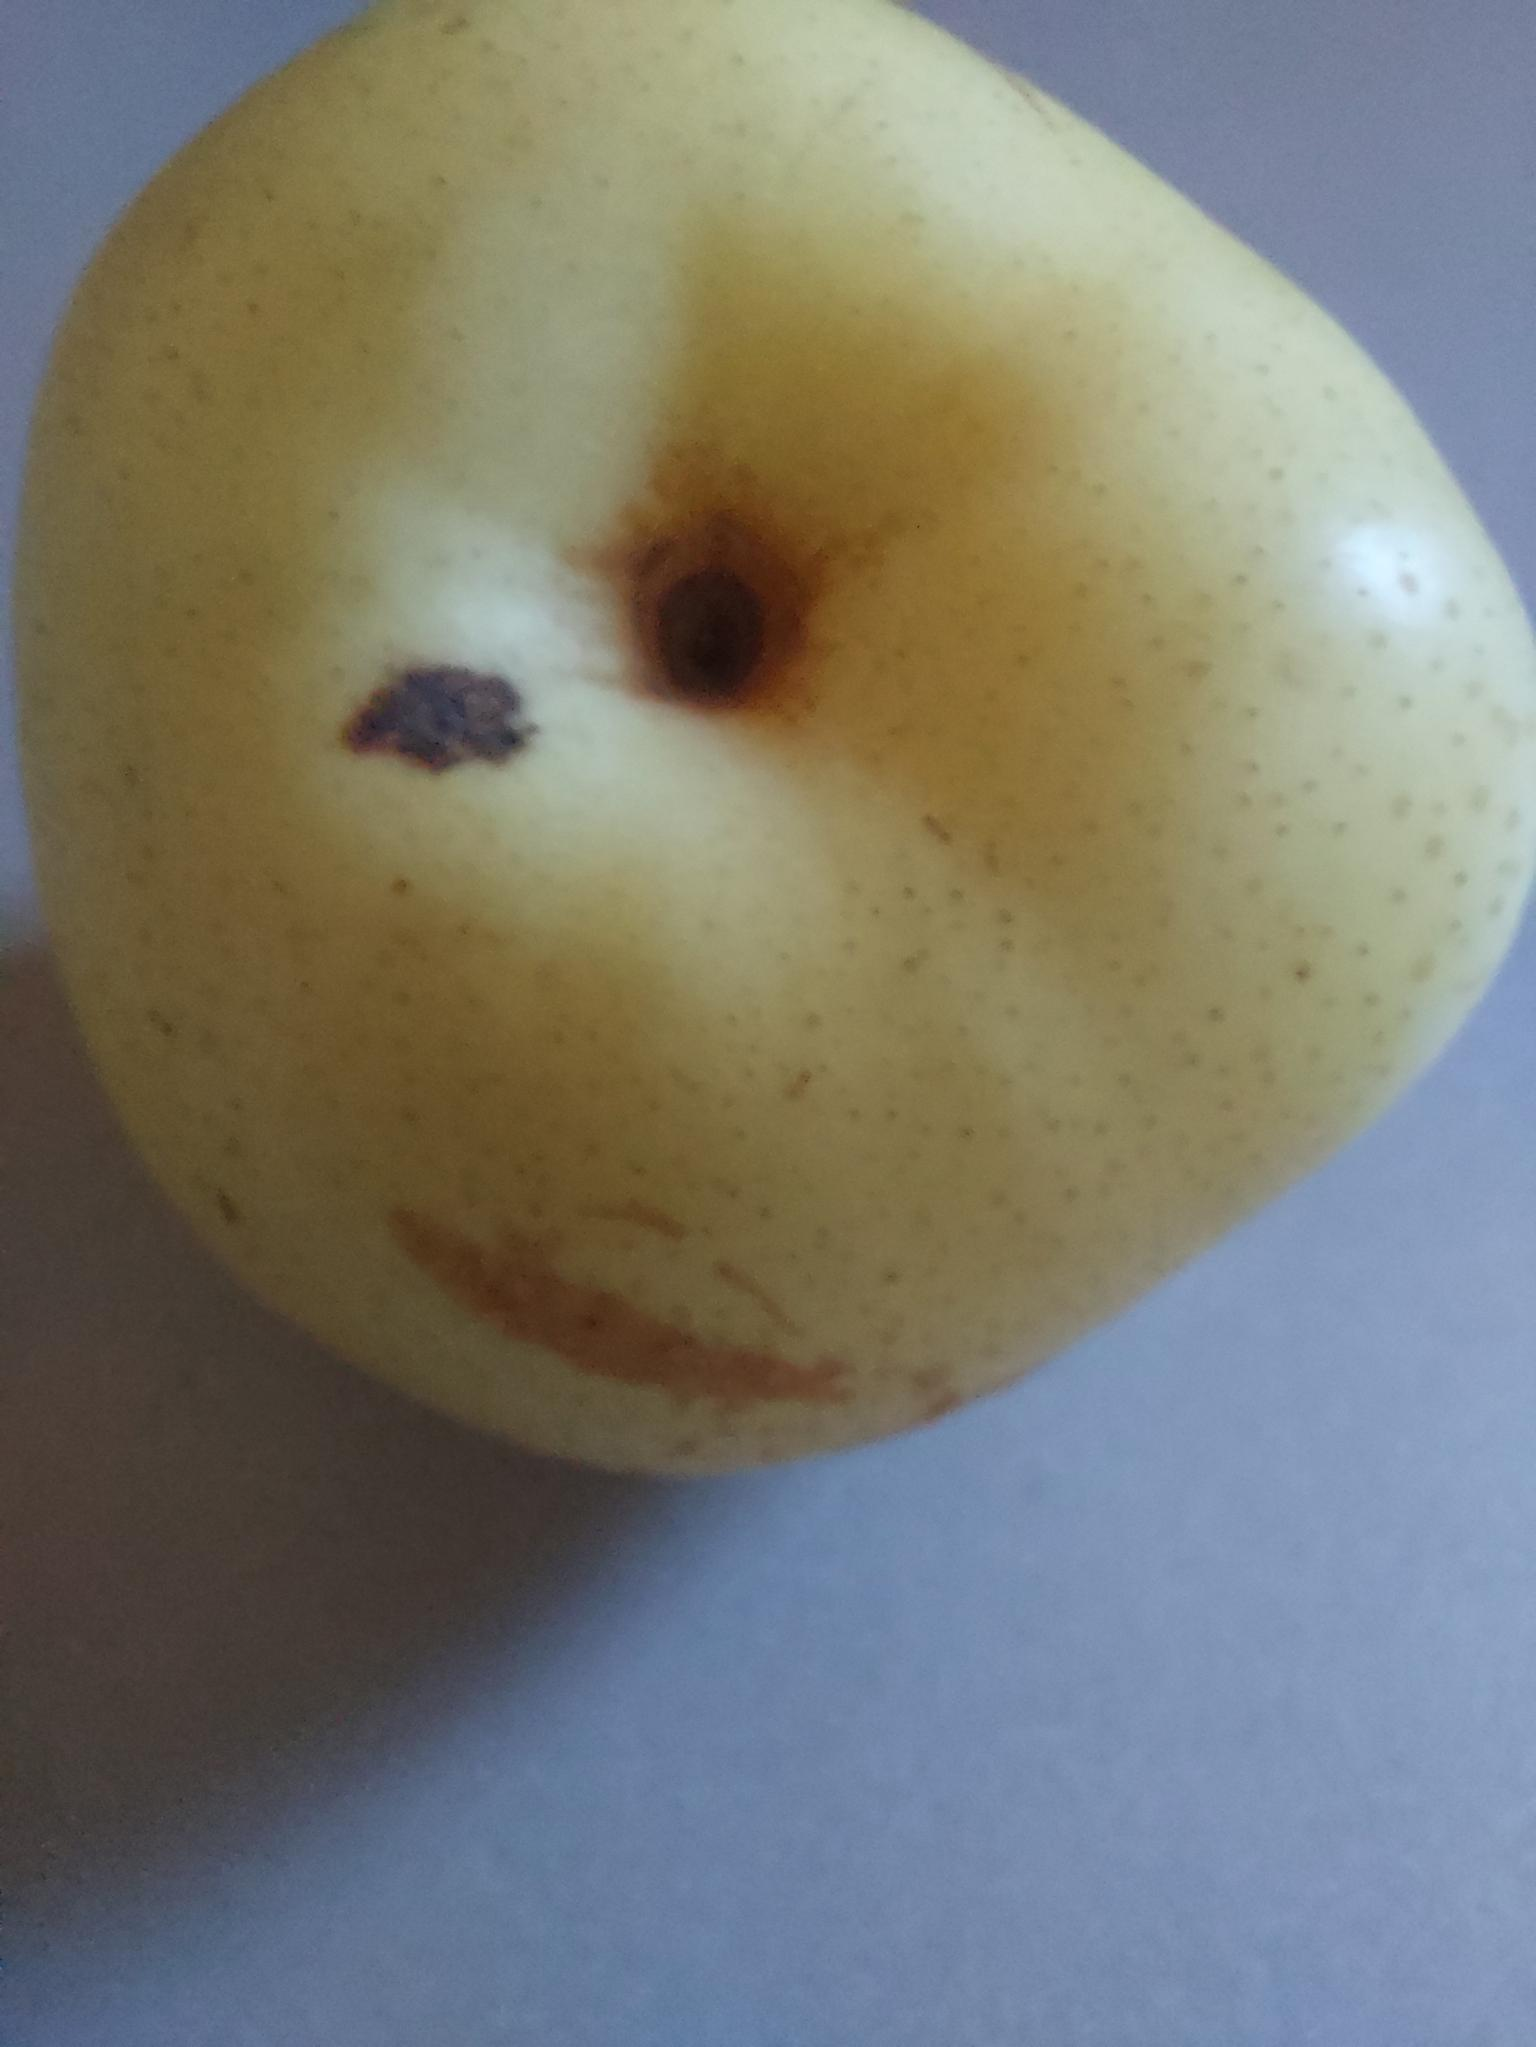Good Pear: (3, 0, 1536, 1500)
